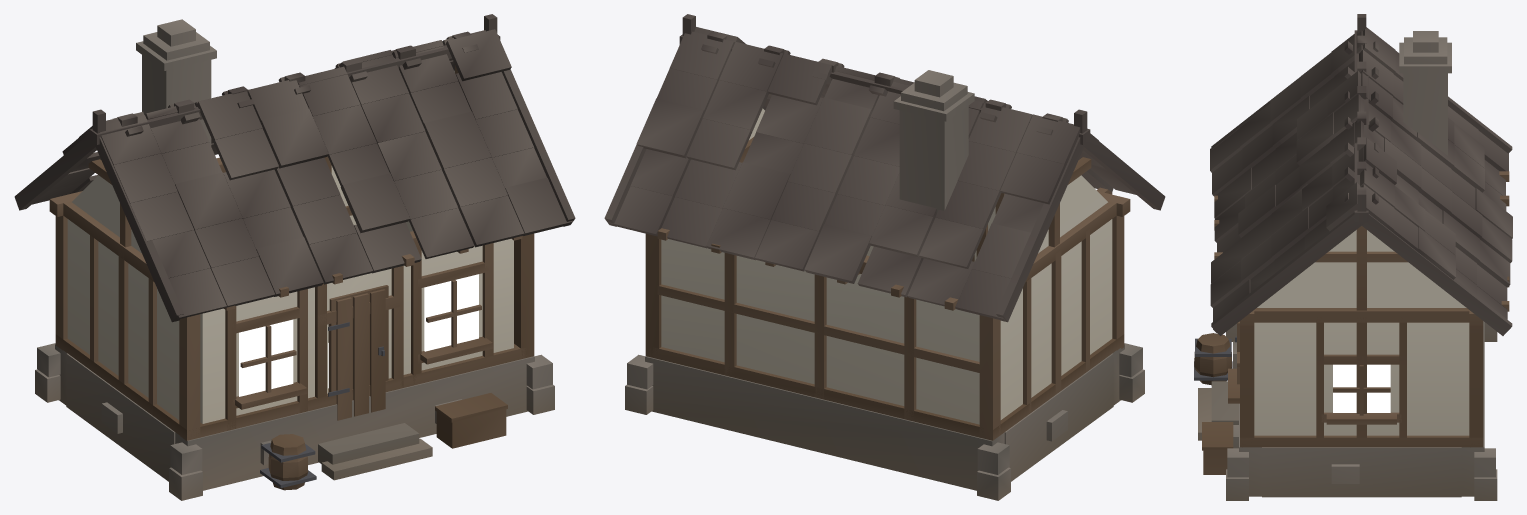
Rendered from cottage_01.glb.
The picture shows the model from 3 angles, left to right: view 1: azimuth 30°, elevation 25°; view 2: azimuth 150°, elevation 25°; view 3: azimuth 270°, elevation 25°; orthographic projection. The views are drawn at different scales.
Visible parts, largest first — view 1: Cottage_01; view 2: Cottage_01; view 3: Cottage_01.
Part boxes in pixels (x1,y1,x2,y2): Cottage_01: (14, 14, 575, 500); Cottage_01: (604, 14, 1165, 500); Cottage_01: (1194, 14, 1512, 500).
Bounding box in the file's own units: 6.74 × 5.93 × 4.98.
